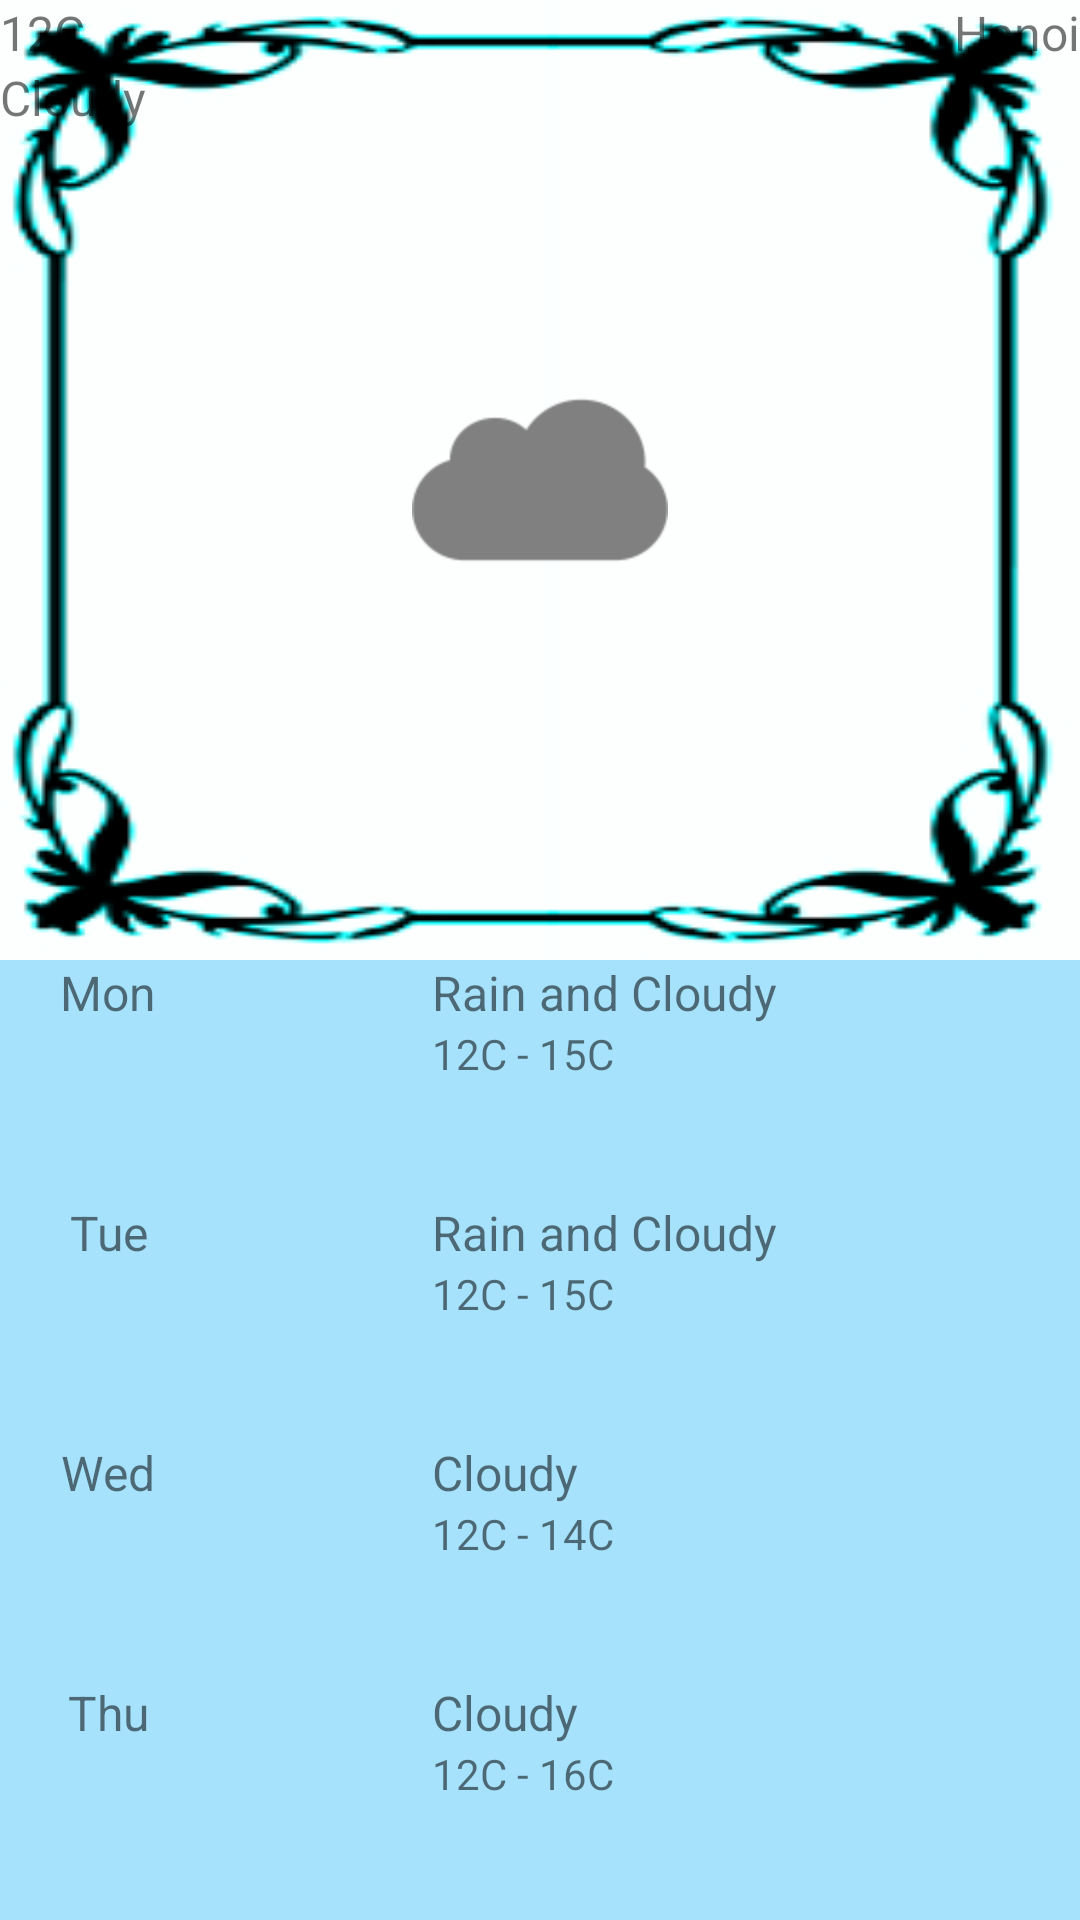

Named icons in this screenshot (1080 x 1920) and their centers, point (x, y):
cloudy: point (540, 480)
